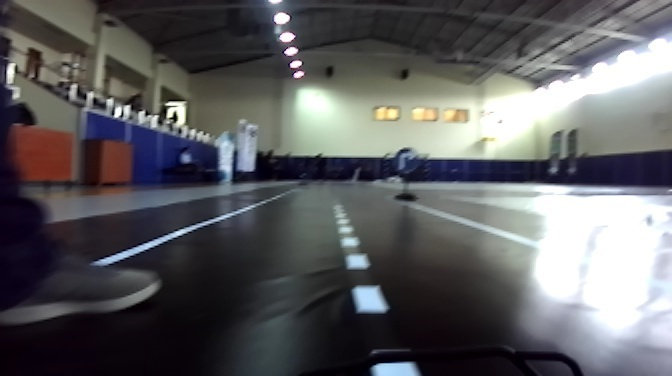saga_donus: (391, 147, 419, 176)
